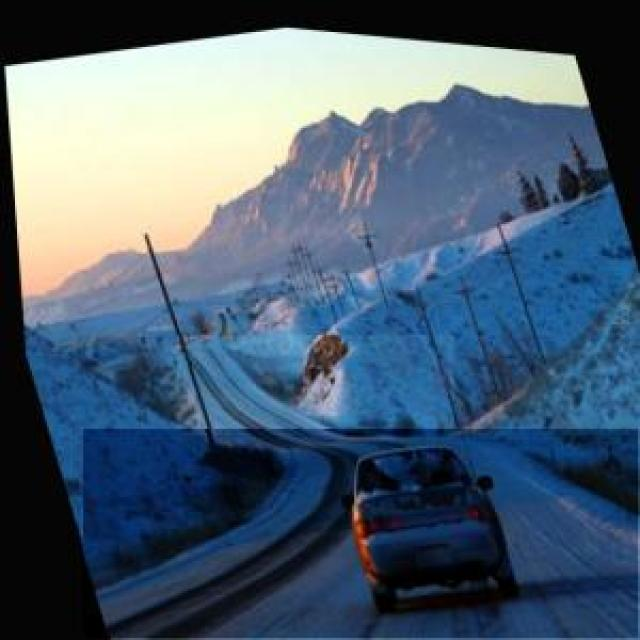ice-road: (85, 430, 638, 640), (179, 336, 454, 463)
